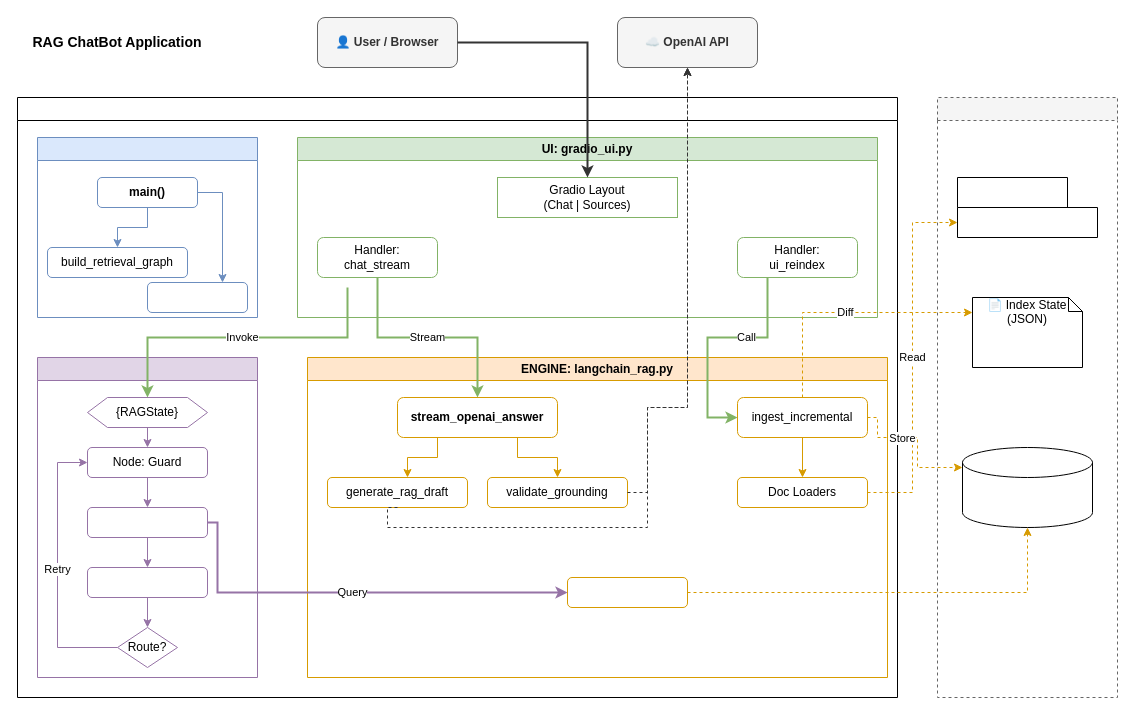
The diagram is 1135 pixels wide and 715 high, and some of its shapes have lost their labels. Each missing label, with the box of its shape:
create_demo: (146, 282, 248, 312)
ENTRY: app.py: (36, 136, 258, 318)
get_vectordb: (566, 576, 688, 608)
LOGIC: langgraph_flow.py: (36, 356, 258, 678)
Node: Context: (86, 566, 208, 598)
Node: Retrieve: (86, 506, 208, 538)
Persistence Layer: (936, 96, 1118, 698)
📂 DOCS_DIR (data/docs): (956, 176, 1098, 238)
🗄️ ChromaDB (data/chroma_db): (962, 446, 1092, 528)
